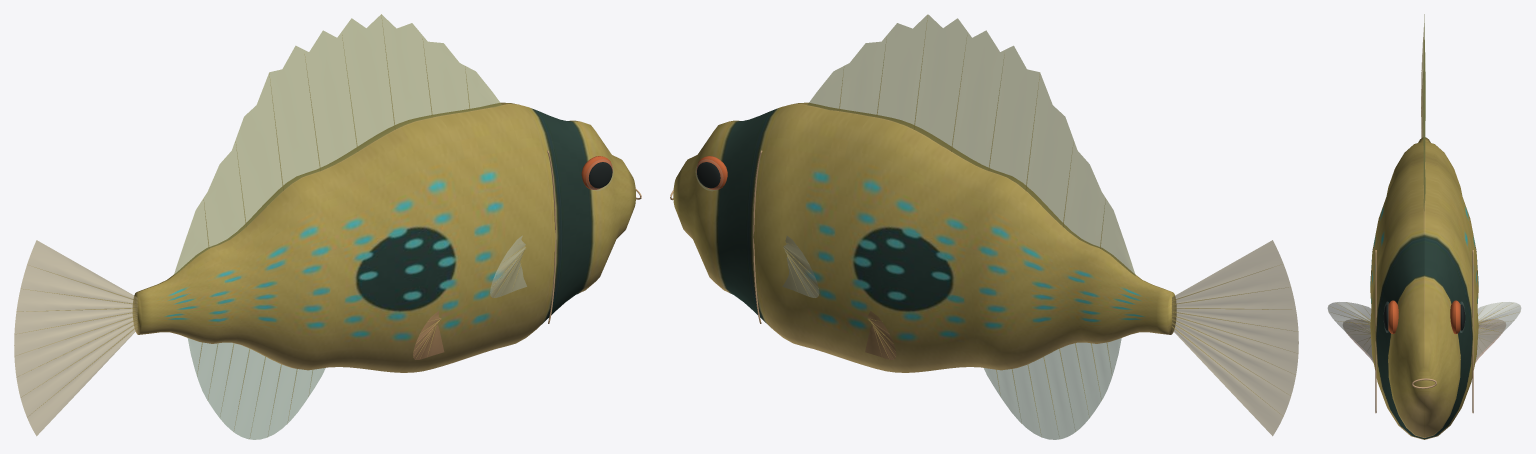
Rendered from ram-mobile.glb.
The picture shows the model from 3 angles, left to right: view 1: azimuth 30°, elevation 25°; view 2: azimuth 150°, elevation 25°; view 3: azimuth 270°, elevation 25°; orthographic projection. The views are drawn at different scales.
Visible parts, largest first — view 1: skin, dorsal, tail, anal, dorsal-ray, pectoral-left, pelvic-left; view 2: skin, dorsal, tail, anal, dorsal-ray, pectoral-left, pelvic-left; view 3: skin, pectoral-left, pelvic-left, operculum, eye-iris--1, dorsal, dorsal-ray, tail, eye-pupil--1.
Part boxes in pixels (box(x1,y1,x2,y2)): skin: box(133, 102, 635, 372); dorsal: box(173, 14, 501, 275); tail: box(14, 240, 137, 435); anal: box(187, 338, 325, 439); dorsal-ray: box(17, 14, 525, 438); pectoral-left: box(490, 235, 526, 297); pelvic-left: box(413, 311, 443, 359); skin: box(673, 102, 1176, 372); dorsal: box(807, 14, 1135, 275); tail: box(1172, 240, 1298, 435); anal: box(984, 338, 1121, 439); dorsal-ray: box(784, 15, 1290, 436); pectoral-left: box(782, 236, 819, 297); pelvic-left: box(865, 311, 896, 359); skin: box(1370, 137, 1478, 439); pectoral-left: box(1327, 302, 1521, 359); pelvic-left: box(1343, 319, 1505, 362); operculum: box(1375, 250, 1473, 413); eye-iris--1: box(1388, 300, 1460, 333); dorsal: box(1423, 14, 1425, 210); dorsal-ray: box(1332, 70, 1515, 352); tail: box(1421, 23, 1424, 137); eye-pupil--1: box(1383, 304, 1465, 330).
Bounding box in the file's own units: 0.5972 × 0.3656 × 0.1718.
11 materials, 1 textured.
